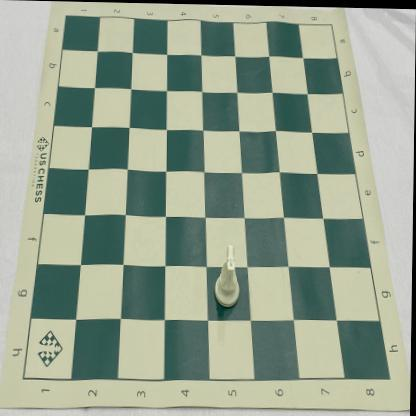white-knight: (215, 243, 242, 308)
